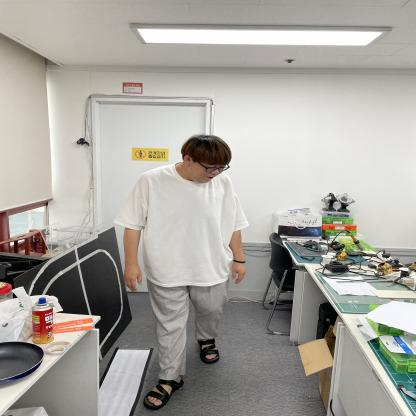normal: (128, 132, 247, 407)
